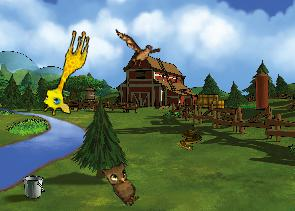eagle: (112, 29, 162, 69)
giraffe: (39, 25, 92, 119)
owl: (97, 155, 149, 208)
